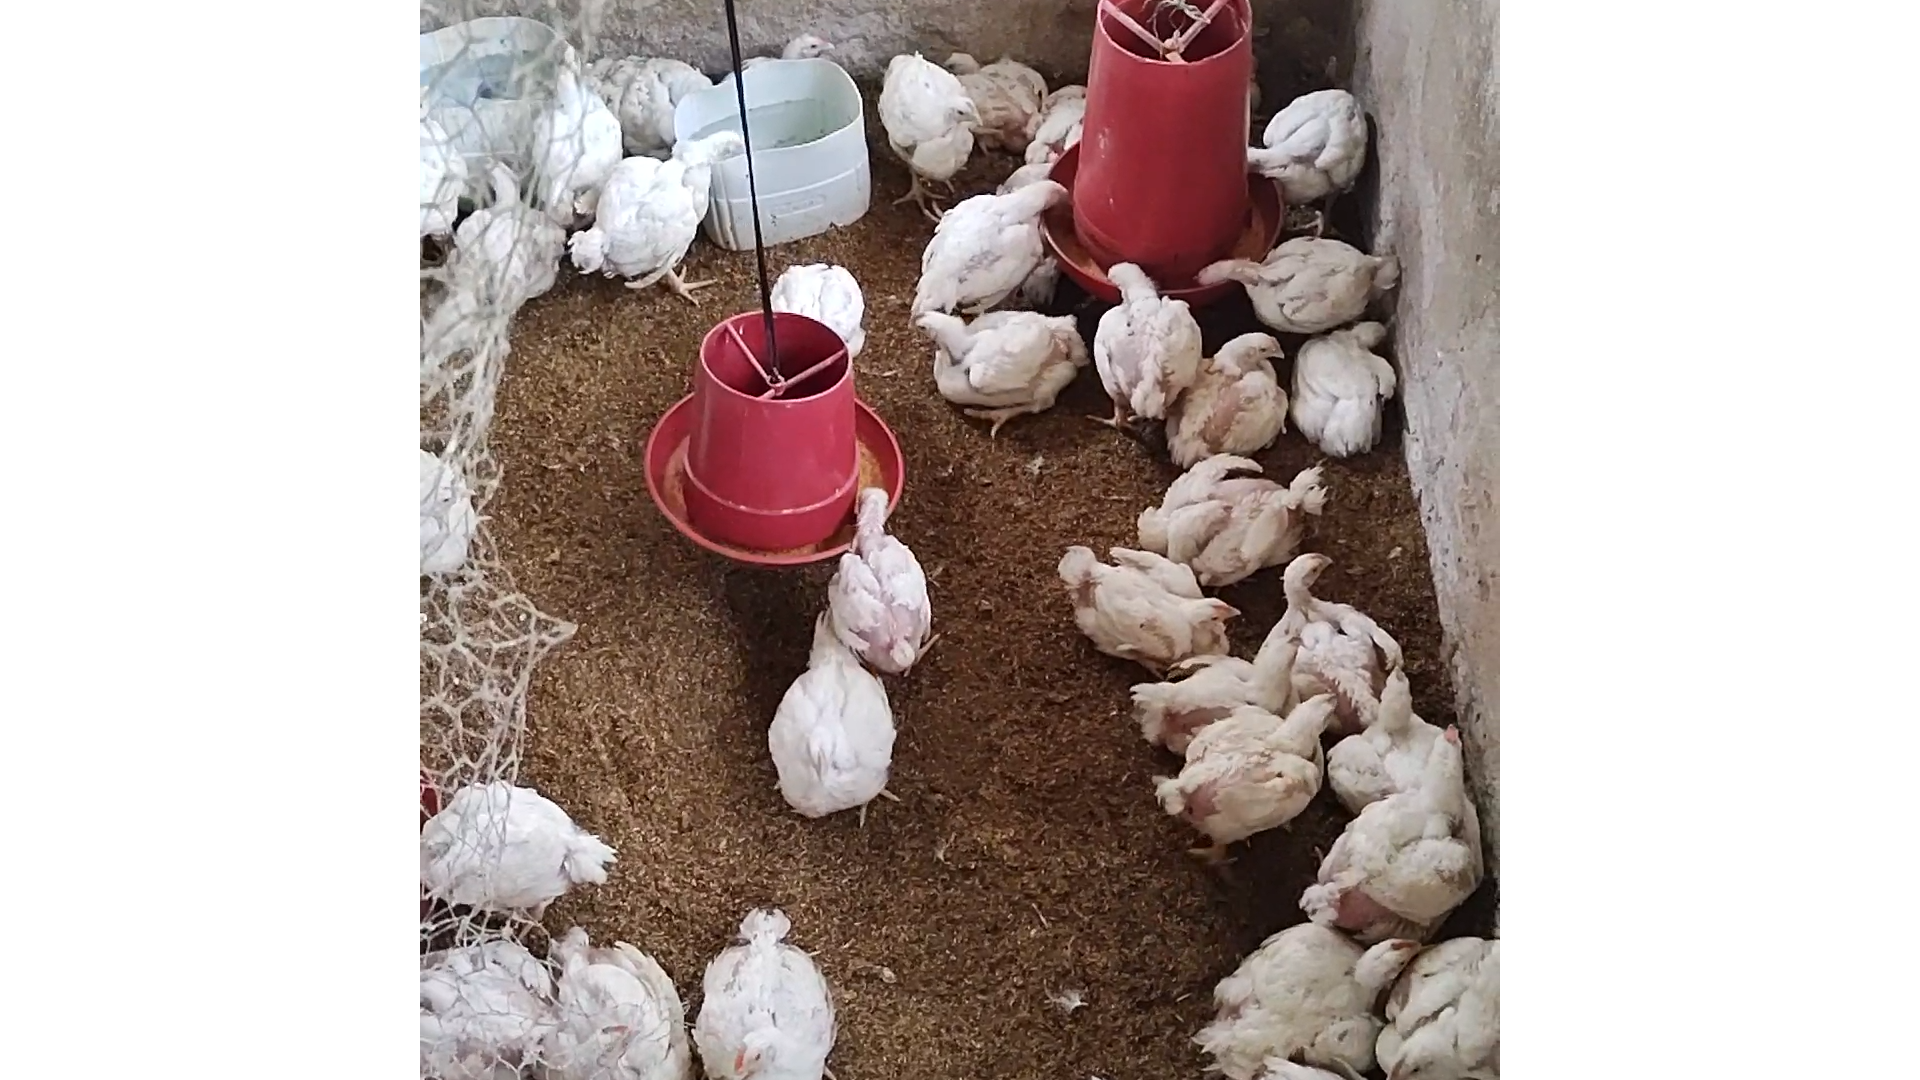Pollos: (1178, 873, 1416, 1073), (568, 111, 753, 315), (1145, 688, 1341, 877), (425, 757, 634, 927), (1110, 448, 1335, 595), (1323, 723, 1486, 911), (757, 640, 906, 843), (1121, 620, 1327, 766), (1255, 545, 1427, 712), (905, 161, 1073, 330), (546, 891, 694, 1080), (899, 295, 1091, 436), (1056, 526, 1222, 678), (688, 911, 833, 1080), (1091, 255, 1207, 443), (1240, 79, 1385, 227), (1199, 232, 1399, 339), (833, 477, 942, 669), (451, 146, 574, 309), (1284, 301, 1408, 458), (872, 46, 984, 215), (1159, 330, 1290, 469), (524, 51, 626, 220), (1336, 659, 1456, 787), (597, 38, 721, 161), (953, 28, 1056, 141), (760, 25, 847, 69)
